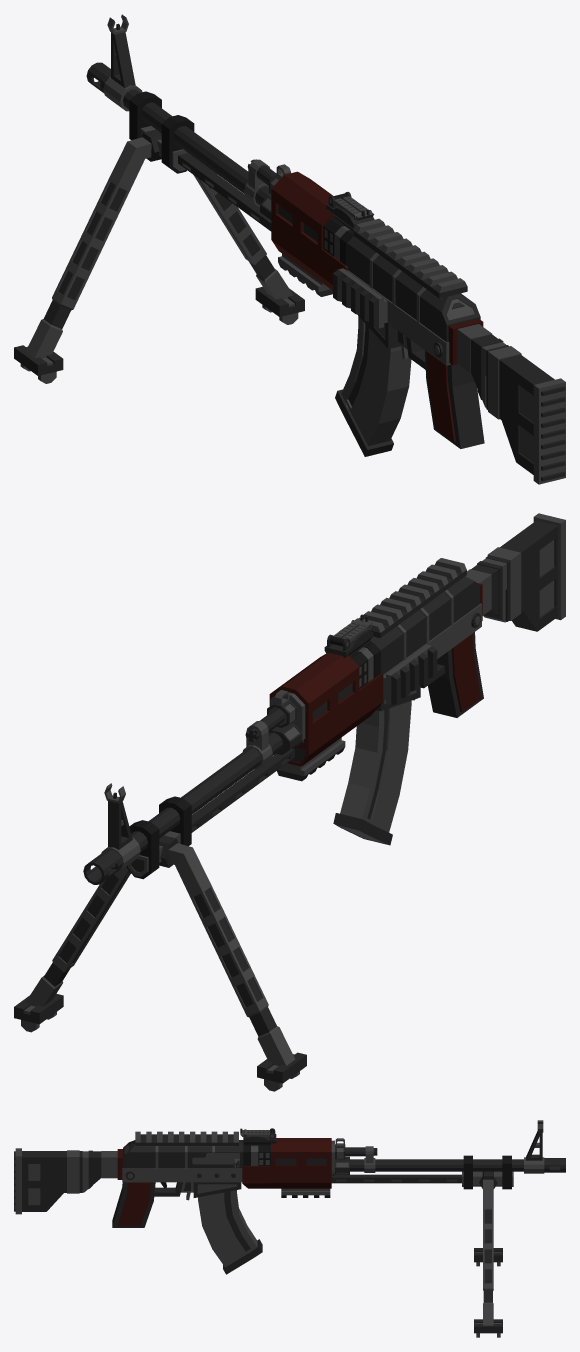
File: light-machine-gun-named-nodes.glb
3 renders of one model, top to bottom at view 1: azimuth 30°, elevation 25°; view 2: azimuth 150°, elevation 25°; view 3: azimuth 270°, elevation 25°, orthographic. The views are drawn at different scales.
Visible parts, largest first — view 1: RPK-556, RPK-556 Mag; view 2: RPK-556, RPK-556 Mag; view 3: RPK-556, RPK-556 Mag, RPK-556 chamber and charging handle.
Part boxes in pixels (bbox=[...]): RPK-556: bbox=[14, 14, 565, 484]; RPK-556 Mag: bbox=[335, 316, 411, 456]; RPK-556: bbox=[14, 513, 565, 1091]; RPK-556 Mag: bbox=[333, 700, 411, 845]; RPK-556: bbox=[14, 1120, 565, 1337]; RPK-556 Mag: bbox=[198, 1190, 262, 1274]; RPK-556 chamber and charging handle: bbox=[192, 1153, 239, 1169].
Bounding box in the file's own units: 0.9616 × 1.02 × 2.85.
1 material, 1 textured.
